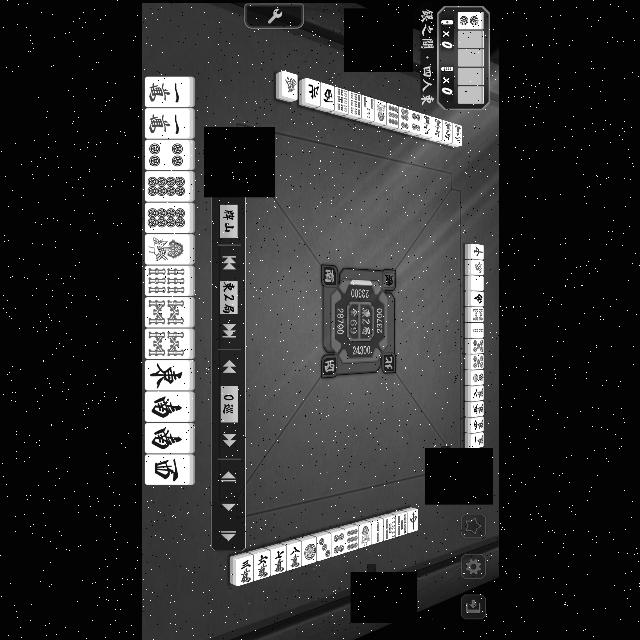1m: (144, 109, 190, 138), (146, 76, 188, 106), (466, 433, 486, 449)
1p: (302, 536, 316, 566)
1s: (144, 235, 192, 267), (372, 100, 388, 126), (360, 521, 372, 547)
2m: (452, 124, 462, 146)
2p: (456, 12, 484, 30), (464, 370, 486, 386)
2s: (464, 322, 484, 338), (372, 518, 382, 544)
3m: (232, 552, 252, 588)
3p: (318, 532, 330, 562)
3s: (360, 95, 374, 121)
4m: (464, 418, 484, 432)
4p: (146, 140, 188, 170), (332, 527, 346, 557), (408, 110, 422, 134)
5m: (465, 402, 485, 416)
5p: (464, 354, 486, 370), (466, 339, 484, 355)
5s: (395, 512, 407, 536), (386, 512, 394, 542)
6m: (252, 550, 270, 580), (440, 122, 452, 146)
6p: (398, 108, 410, 132)
6s: (144, 267, 192, 297)
7m: (270, 544, 286, 576), (430, 118, 442, 140)
8m: (286, 542, 300, 572), (463, 386, 485, 402)
8p: (146, 200, 192, 232), (145, 172, 191, 202)
8s: (146, 328, 192, 360), (145, 300, 191, 328), (464, 308, 486, 322)
9m: (420, 112, 432, 140)
9p: (386, 104, 400, 130), (346, 524, 358, 554)
9s: (347, 92, 361, 118), (335, 90, 349, 114)
chun: (465, 243, 483, 259), (408, 508, 418, 534)
haku: (466, 274, 484, 292)
hatsu: (276, 70, 298, 98), (462, 260, 484, 276)
nan: (145, 422, 189, 454), (144, 392, 190, 422), (465, 291, 483, 307)
pe: (298, 78, 322, 108)
sha: (144, 455, 190, 487), (319, 85, 335, 111)
tou: (144, 358, 190, 390)
